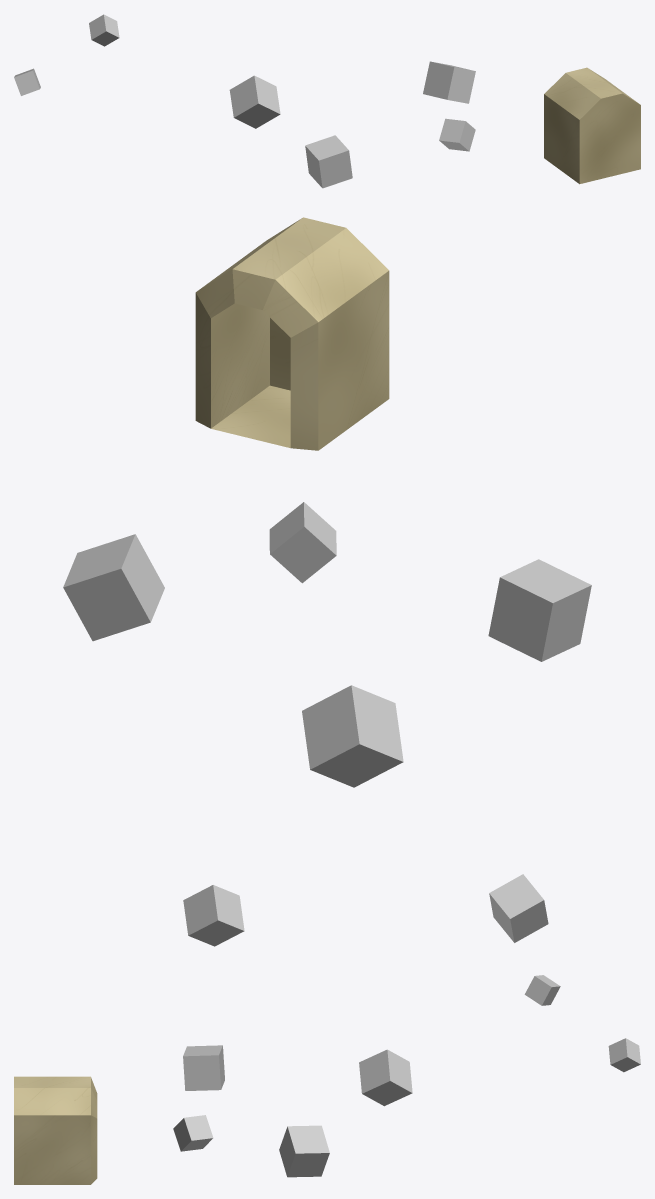
File: Pipe.obj
The picture shows the model from 3 angles, top to bottom: view 1: azimuth 30°, elevation 25°; view 2: azimuth 150°, elevation 25°; view 3: azimuth 270°, elevation 25°; orthographic projection. The views are drawn at different scales.
Parts seen in each view (by area): view 1: Cube, Cube.004_Cube.001, Cube.002_Cube.001, Cube.003_Cube.001, Cube.001, Cube.005_Cube.001, Cube.006_Cube.001; view 2: Cube, Cube.004_Cube.001, Cube.002_Cube.001, Cube.003_Cube.001, Cube.001, Cube.005_Cube.001, Cube.006_Cube.001; view 3: Cube, Cube.004_Cube.001, Cube.003_Cube.001, Cube.002_Cube.001, Cube.001, Cube.005_Cube.001, Cube.006_Cube.001.
Boxes of the visible parts, <box> form: Cube: <box>544,67,640,184</box>; Cube.004_Cube.001: <box>229,75,280,128</box>; Cube.002_Cube.001: <box>305,135,352,188</box>; Cube.003_Cube.001: <box>423,61,475,103</box>; Cube.001: <box>439,118,475,151</box>; Cube.005_Cube.001: <box>89,14,119,46</box>; Cube.006_Cube.001: <box>14,68,40,95</box>; Cube: <box>195,217,389,450</box>; Cube.004_Cube.001: <box>302,685,403,787</box>; Cube.002_Cube.001: <box>488,559,591,661</box>; Cube.003_Cube.001: <box>63,534,164,641</box>; Cube.001: <box>269,502,336,583</box>; Cube.005_Cube.001: <box>183,885,244,946</box>; Cube.006_Cube.001: <box>489,874,548,942</box>; Cube: <box>14,1076,97,1184</box>; Cube.004_Cube.001: <box>359,1049,412,1106</box>; Cube.003_Cube.001: <box>279,1125,329,1177</box>; Cube.002_Cube.001: <box>183,1045,224,1090</box>; Cube.001: <box>173,1115,213,1151</box>; Cube.005_Cube.001: <box>608,1038,640,1072</box>; Cube.006_Cube.001: <box>524,975,560,1005</box>.
Bounding box in the file's own units: 37.42 × 10.5 × 48.92.
